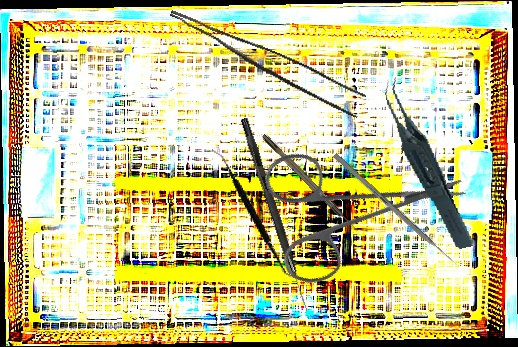Hook Surgical: (237, 117, 314, 313), (261, 132, 360, 235)
Iris Scissors: (226, 87, 471, 331)
Pusher: (332, 152, 461, 270)
Spatula Surgical: (176, 147, 334, 281)
Tissue Forceps: (160, 9, 369, 119), (382, 68, 475, 258)
